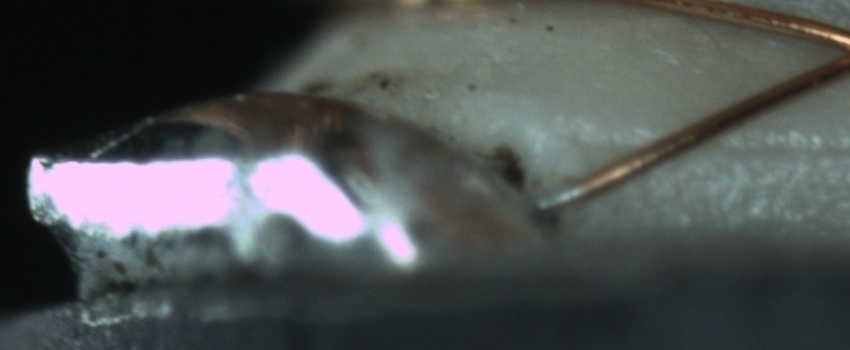DL: (610, 113, 850, 183)
TS: (534, 182, 583, 214)
